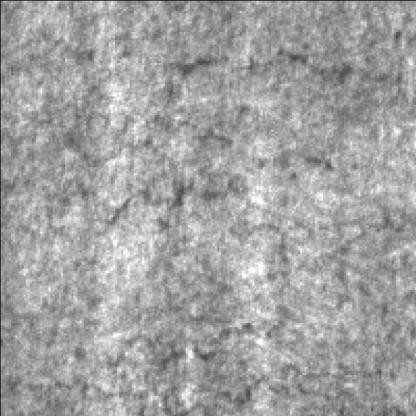crazing: (19, 29, 355, 225), (0, 289, 383, 412)
